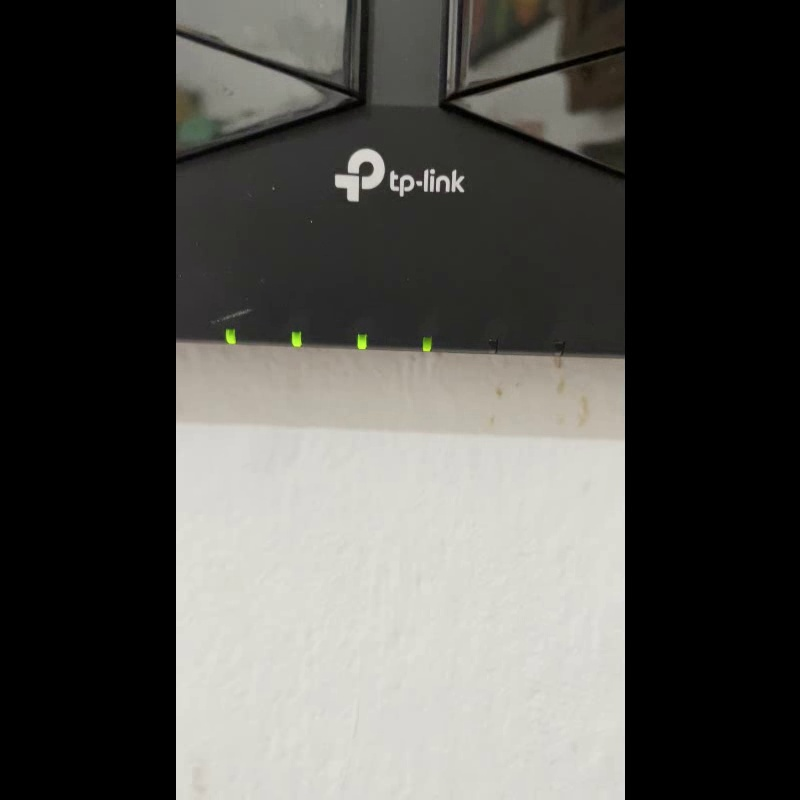off: (551, 339, 564, 355), (486, 336, 496, 353)
on_green: (421, 335, 432, 351), (356, 332, 366, 349), (225, 328, 236, 343), (291, 330, 301, 346)
